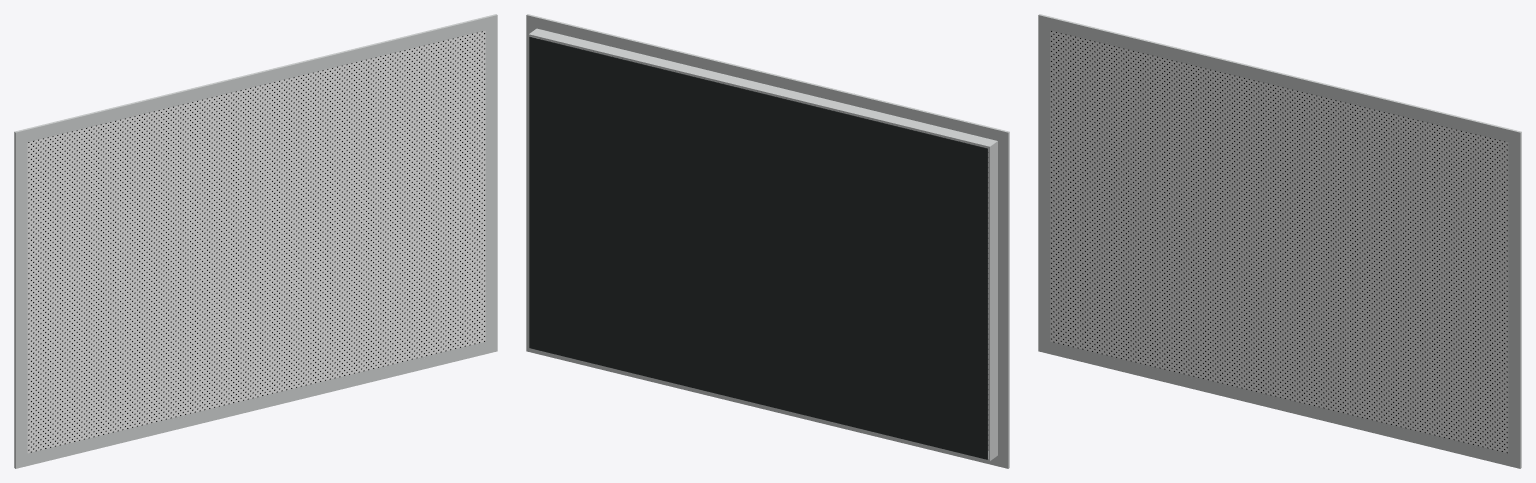
File: ecoclima-egfr-600x400.glb
3 renders of one model, left to right at view 1: azimuth 30°, elevation 25°; view 2: azimuth 150°, elevation 25°; view 3: azimuth 330°, elevation 25°, orthographic.
Visible parts, largest first — view 1: Profile_lamiera_forata, Profile_cornice.109, Profile_cornice.110, Profile_cornice.111, Profile_cornice.112; view 2: Interno.031, Profile_cornice.109, Profile_ritorno.116, Profile_cornice.111, Profile_ritorno.118, Profile_cornice.110, Profile_cornice.112, Profile_lamiera_forata, Profile_ritorno.117, Profile_ritorno.119; view 3: Profile_lamiera_forata, Profile_cornice.109, Profile_cornice.110, Profile_cornice.112, Profile_cornice.111.
Part boxes in pixels (<box>): Profile_lamiera_forata: <box>27,30,485,453</box>; Profile_cornice.109: <box>14,14,497,144</box>; Profile_cornice.110: <box>14,339,497,468</box>; Profile_cornice.111: <box>14,142,27,456</box>; Profile_cornice.112: <box>485,27,497,341</box>; Interno.031: <box>529,36,987,459</box>; Profile_cornice.109: <box>526,14,1009,144</box>; Profile_ritorno.116: <box>528,28,997,148</box>; Profile_cornice.111: <box>998,143,1009,456</box>; Profile_ritorno.118: <box>988,143,997,459</box>; Profile_cornice.110: <box>526,339,1009,468</box>; Profile_cornice.112: <box>526,27,538,339</box>; Profile_lamiera_forata: <box>539,38,988,450</box>; Profile_ritorno.117: <box>528,347,997,460</box>; Profile_ritorno.119: <box>528,36,537,346</box>; Profile_lamiera_forata: <box>1050,30,1508,453</box>; Profile_cornice.109: <box>1038,14,1521,144</box>; Profile_cornice.110: <box>1038,339,1521,468</box>; Profile_cornice.112: <box>1508,142,1521,456</box>; Profile_cornice.111: <box>1038,27,1050,341</box>.
Bounding box in the file's own units: 0.6 × 0.4 × 0.022.
Materials: 3 (1 with a texture image).
